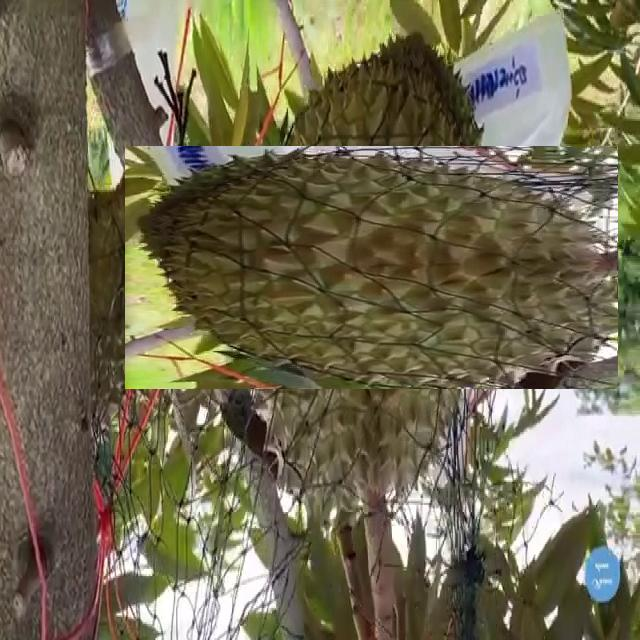durian: (187, 83, 556, 451)
